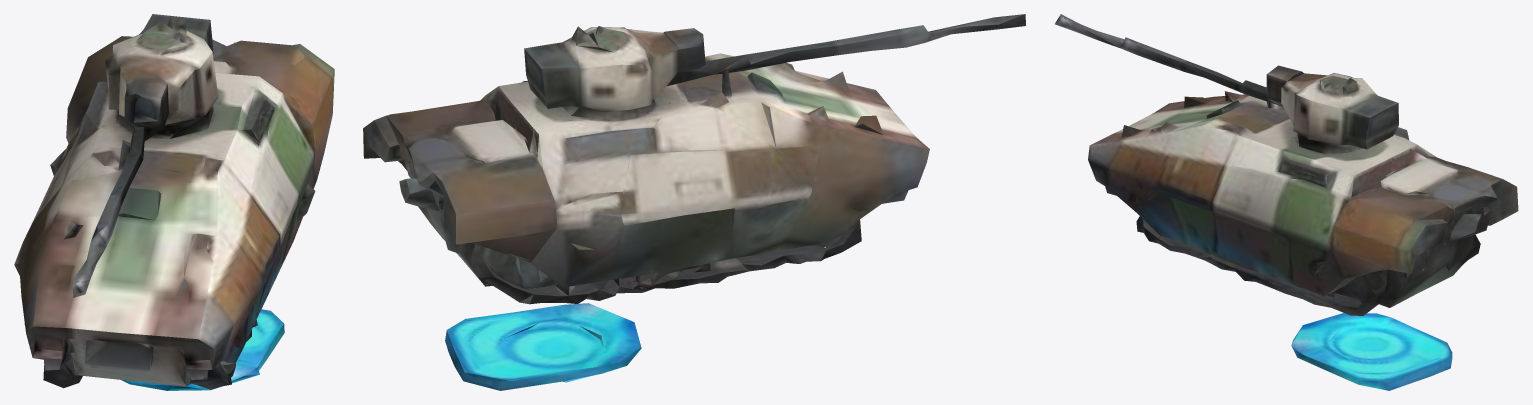
The model's file is hoverTank.glb.
3 renders of one model, left to right at view 1: azimuth 30°, elevation 25°; view 2: azimuth 150°, elevation 25°; view 3: azimuth 270°, elevation 25°, orthographic. The views are drawn at different scales.
Parts seen in each view (by area): view 1: RETOPO; view 2: RETOPO; view 3: RETOPO.
Part boxes in pixels (box(x1,y1,x2,y2)): RETOPO: box(14, 14, 334, 390); RETOPO: box(363, 14, 1025, 390); RETOPO: box(1055, 14, 1518, 390).
Size of the model in its own units: 0.8715 by 0.6084 by 0.9458.
Materials: 1 (1 with a texture image).
